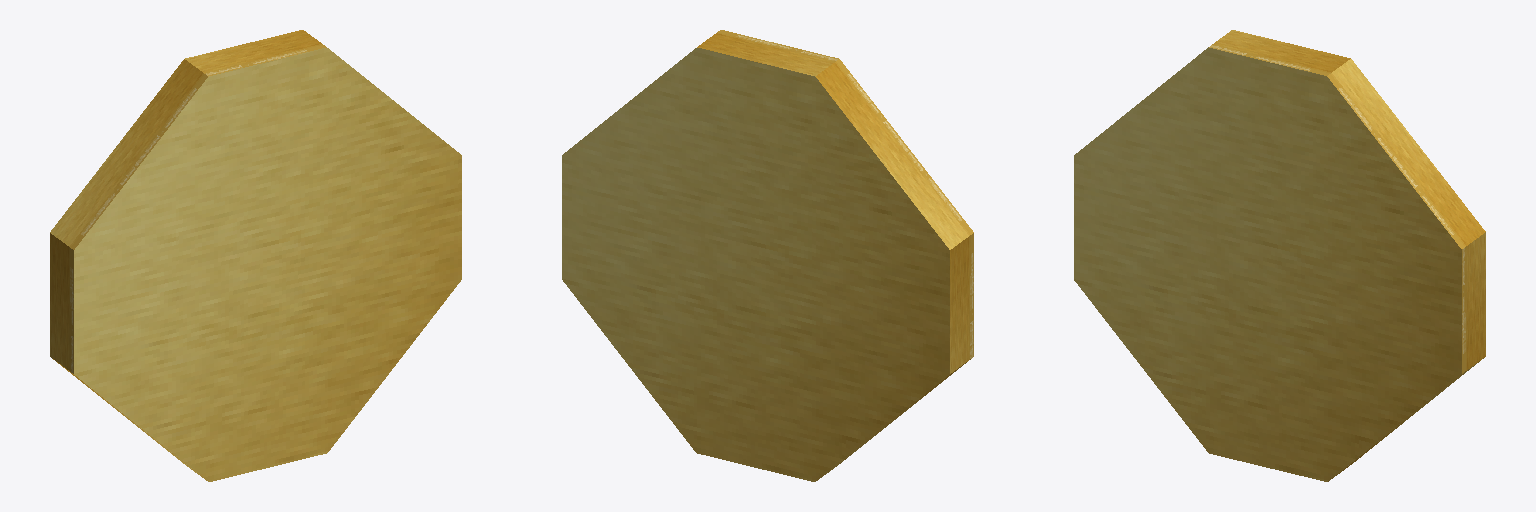
3 renders of one model, left to right at view 1: azimuth 30°, elevation 25°; view 2: azimuth 150°, elevation 25°; view 3: azimuth 330°, elevation 25°, orthographic.
Parts seen in each view (by area): view 1: GoldCoin; view 2: GoldCoin; view 3: GoldCoin.
Part boxes in pixels (x1,y1,x2,y2): GoldCoin: (50, 30, 461, 481); GoldCoin: (562, 30, 973, 481); GoldCoin: (1074, 30, 1485, 481).
Bounding box in the file's own units: 0.3321 × 0.3321 × 0.0359.
1 materials, 1 textured.